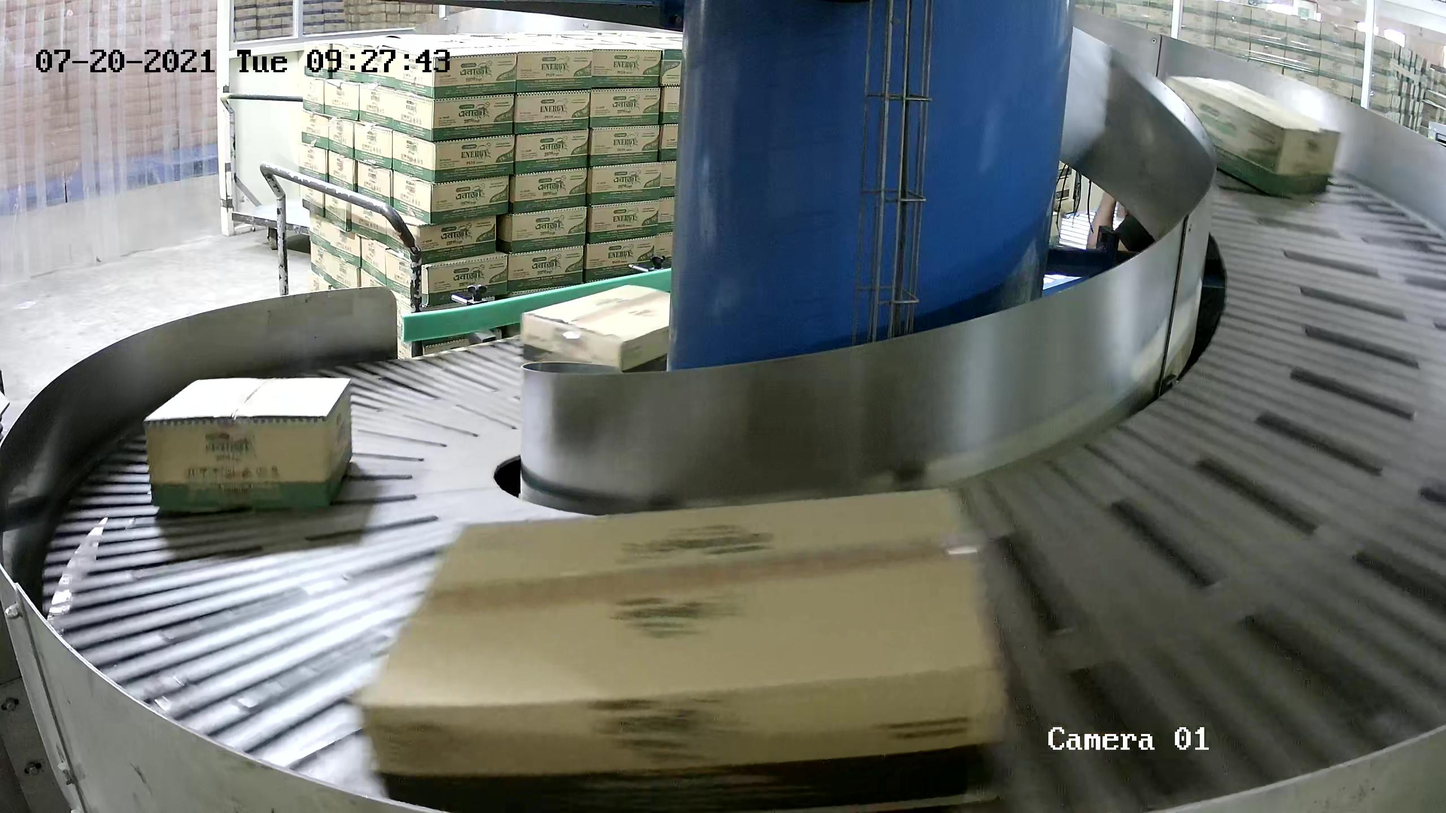Box: (354, 487, 1005, 813), (142, 376, 353, 511), (1153, 75, 1342, 198), (522, 283, 698, 383)
